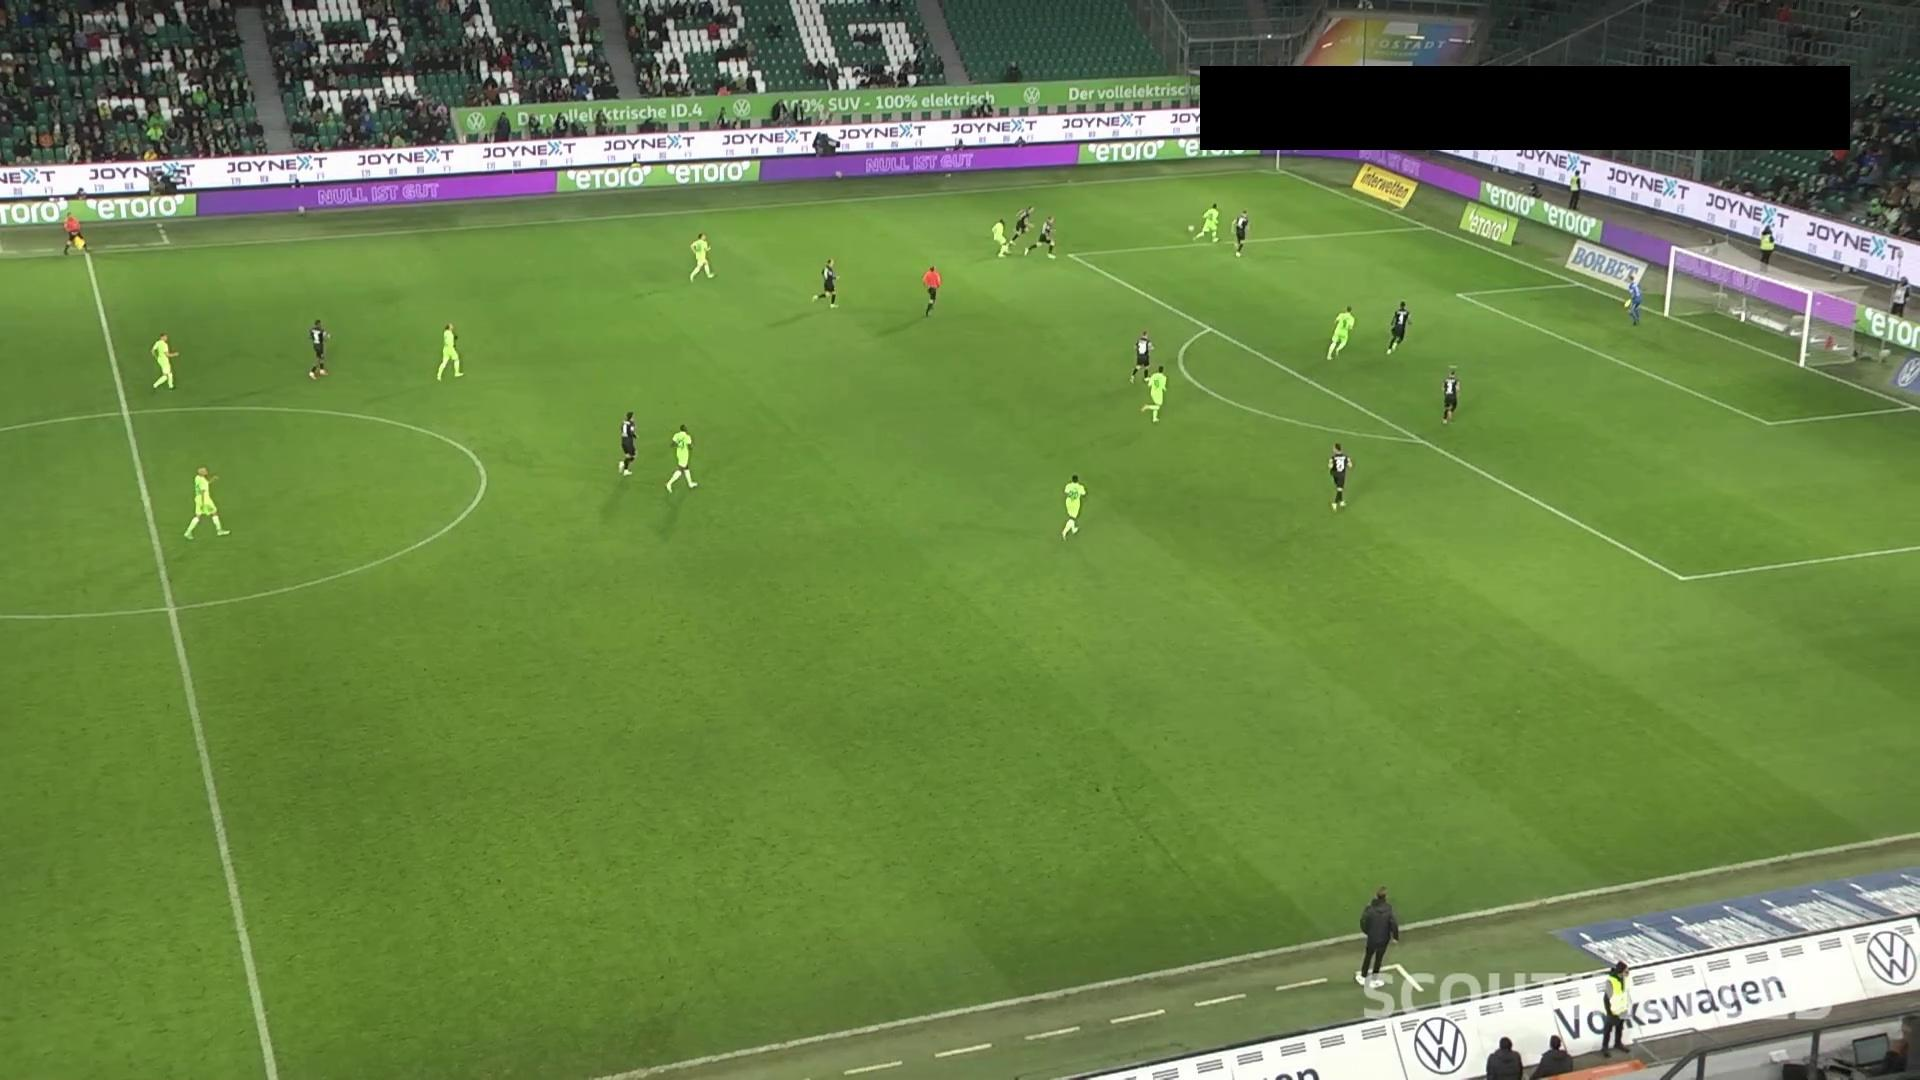Location-of-ball: (1180, 214, 1204, 239)
